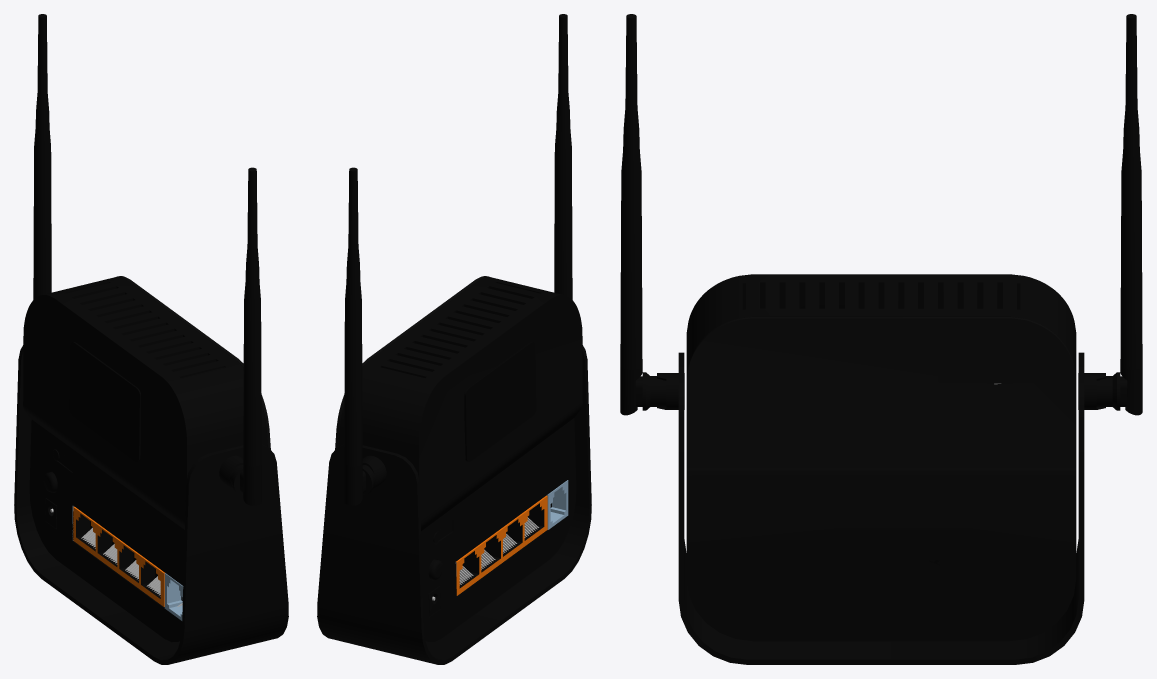
The model's file is uploads_files_5736678_ROUTER.obj.
3 views of the same model, side by side, from view 1: azimuth 30°, elevation 25°; view 2: azimuth 150°, elevation 25°; view 3: azimuth 270°, elevation 25° (orthographic). The views are drawn at different scales.
Parts seen in each view (by area): view 1: Cube_Cube.001; view 2: Cube_Cube.001; view 3: Cube_Cube.001.
Boxes of the visible parts, left/top/right/bottom form: Cube_Cube.001: left=14, top=14, right=288, bottom=664; Cube_Cube.001: left=317, top=14, right=591, bottom=664; Cube_Cube.001: left=620, top=14, right=1142, bottom=664.
Bounding box in the file's own units: 1.55 × 6.92 × 5.34.
